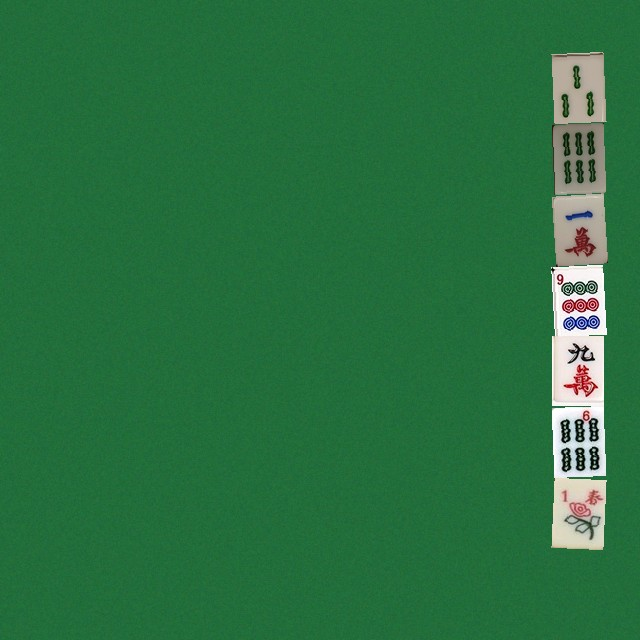tile: (551, 51, 603, 121), (551, 122, 603, 192), (551, 193, 603, 263), (551, 264, 603, 334), (551, 335, 603, 405), (551, 406, 603, 476), (551, 477, 603, 547)
